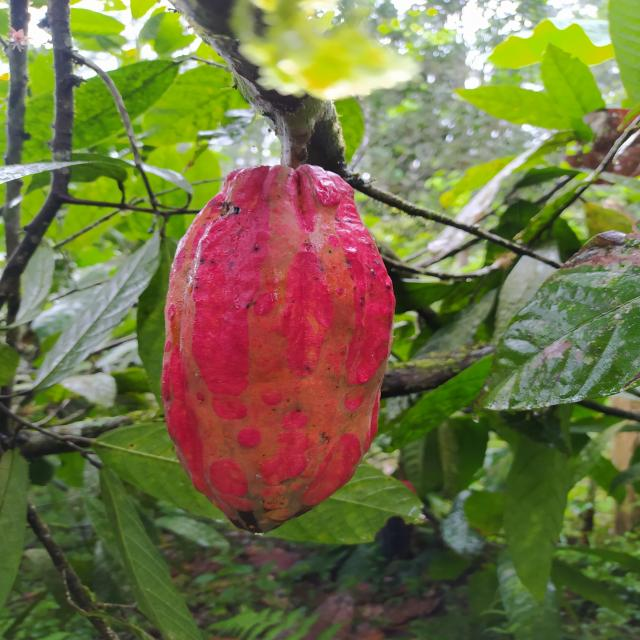Sana: (158, 165, 394, 534)
